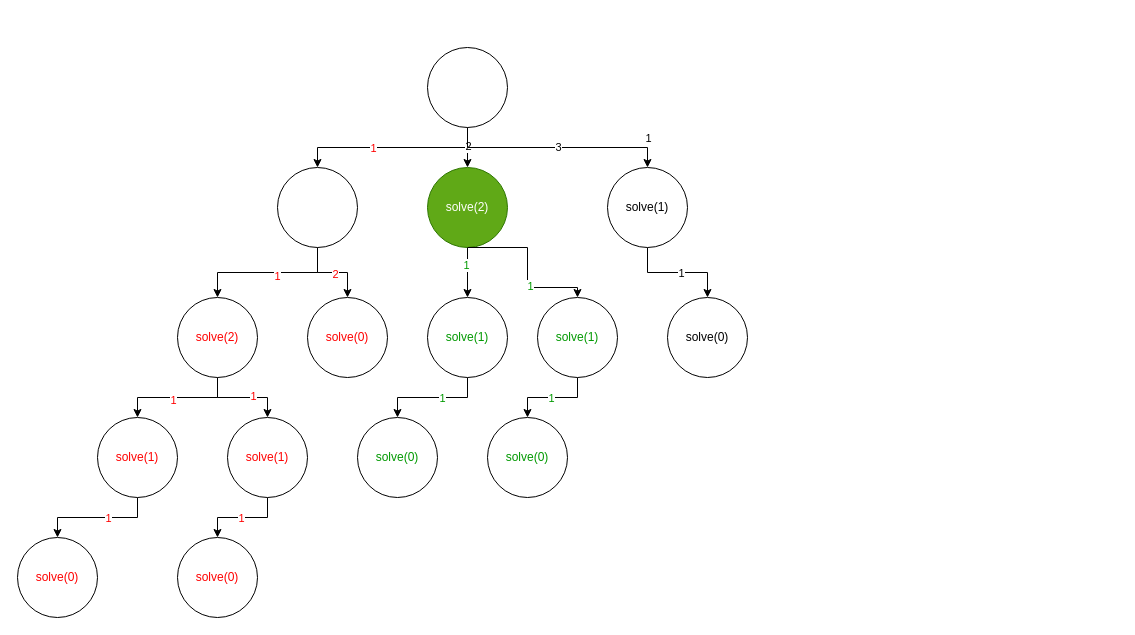
Some shapes in this 1135 by 635 pixel diagram are drawn without their labels. The shapes that lost their labels are listed below. From the top down, each one's centre as x and y in pixels, then its label:
At point 467,87: "solve(4)".
At point 317,207: "solve(3)".
